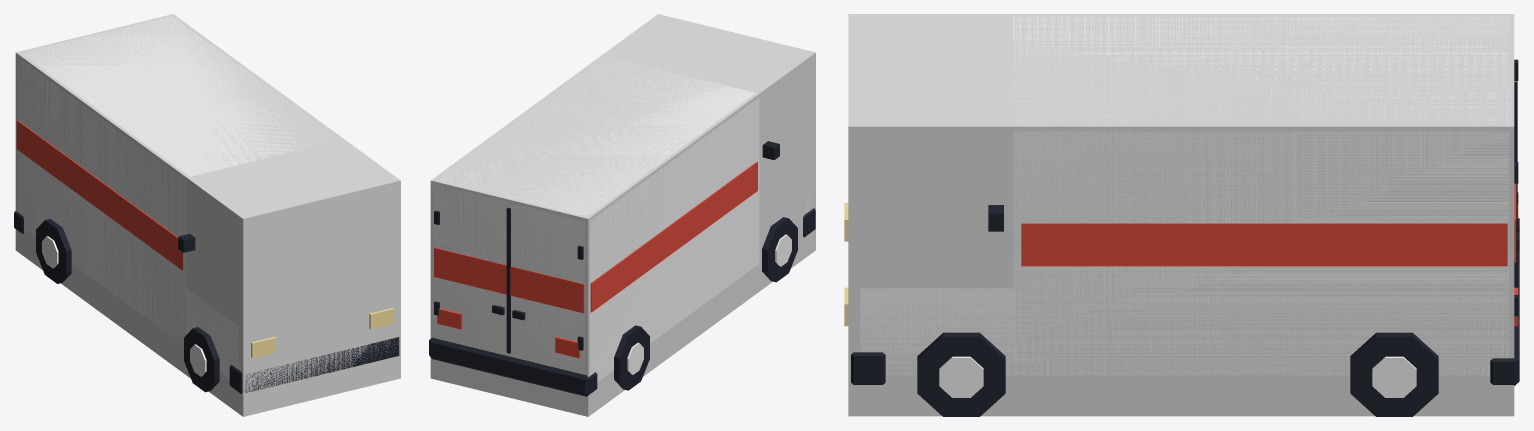
The model's file is delivery-van.glb.
3 renders of one model, left to right at view 1: azimuth 30°, elevation 25°; view 2: azimuth 150°, elevation 25°; view 3: azimuth 270°, elevation 25°, orthographic. The views are drawn at different scales.
Visible parts, largest first — view 1: COL_body, delivery-van, wheel_FL, wheel_RL; view 2: COL_body, delivery-van, wheel_FL, wheel_RL; view 3: COL_body, delivery-van, wheel_FR, wheel_RR.
Part boxes in pixels (x1,y1,x2,y2): COL_body: (15,14,400,416); delivery-van: (14,16,399,393); wheel_FL: (184,327,219,392); wheel_RL: (36,218,71,283); COL_body: (430,14,815,416); delivery-van: (429,57,815,396); wheel_FL: (762,217,797,282); wheel_RL: (614,325,649,390); COL_body: (848,14,1514,416); delivery-van: (844,16,1519,385); wheel_FR: (917,332,1005,416); wheel_RR: (1350,332,1438,416).
Size of the model in its own units: 2.3 by 2.4 by 5.07.
